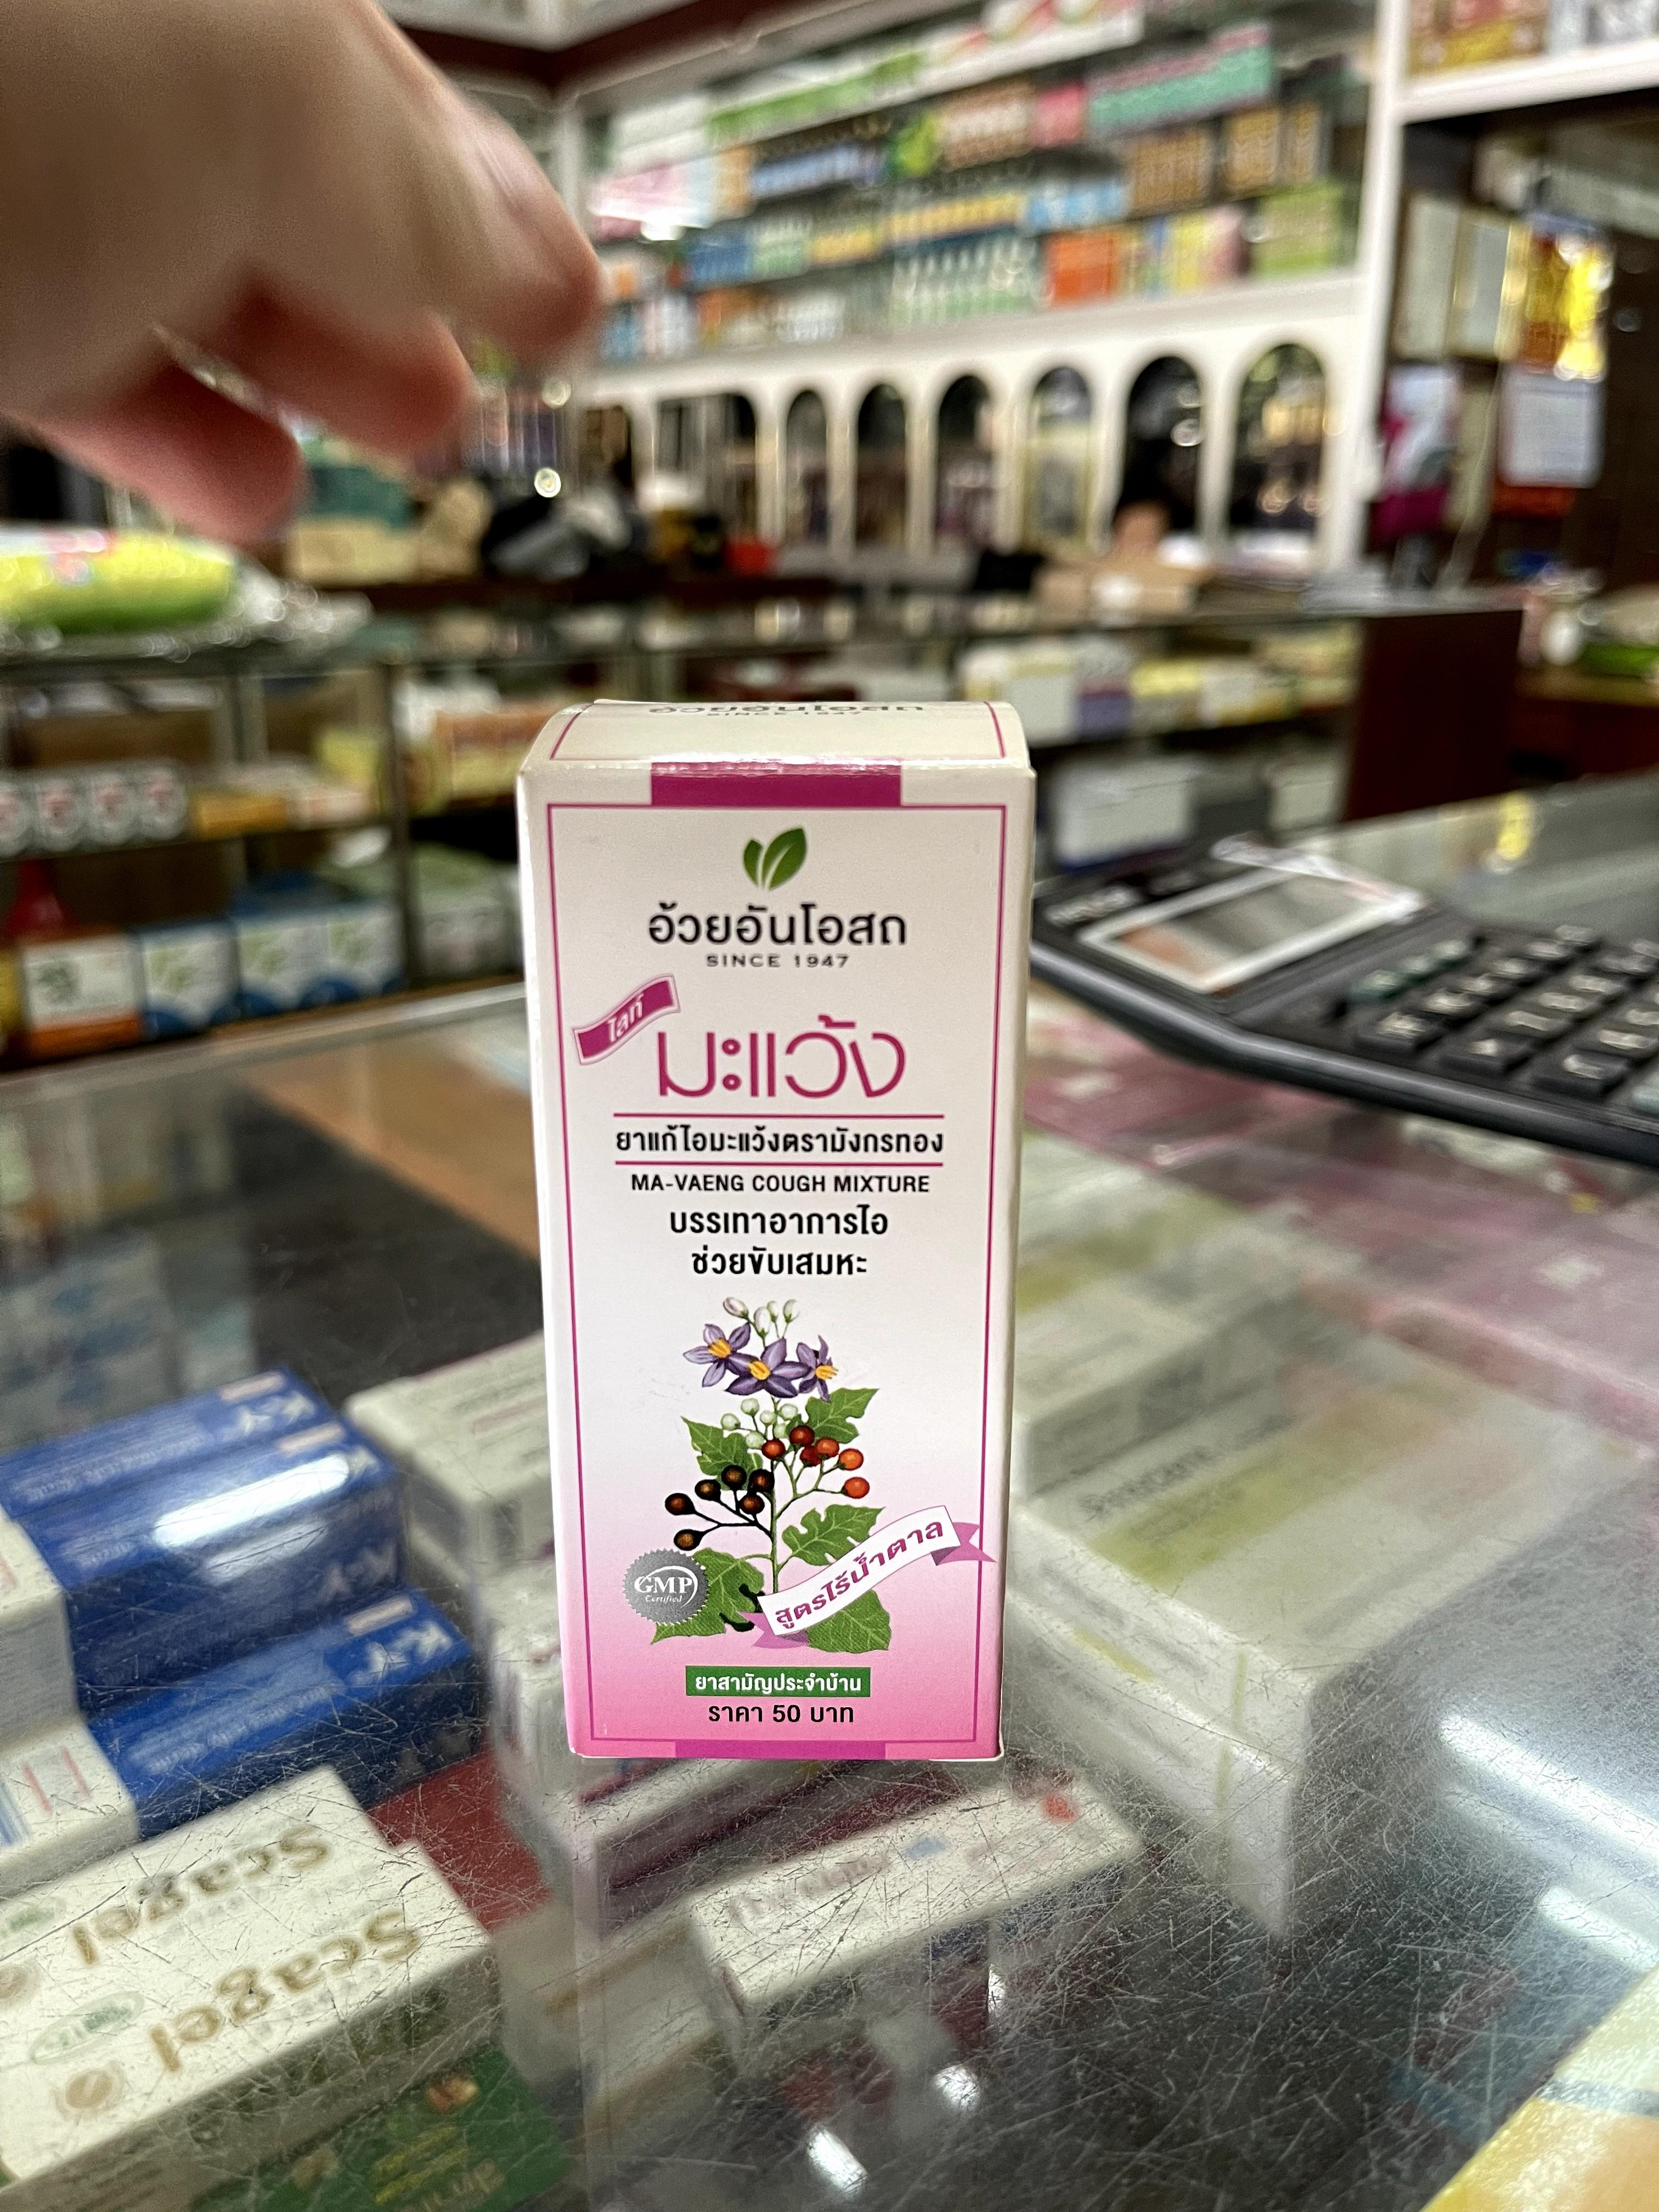Ma-Vaeng_Light: (519, 697, 1023, 1761)
